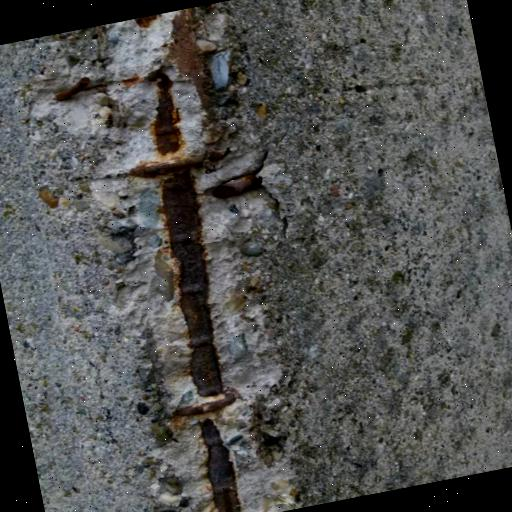spalling: (92, 8, 284, 512)
